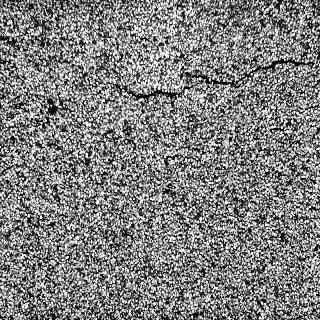crack: (109, 70, 237, 101), (228, 57, 320, 86)
